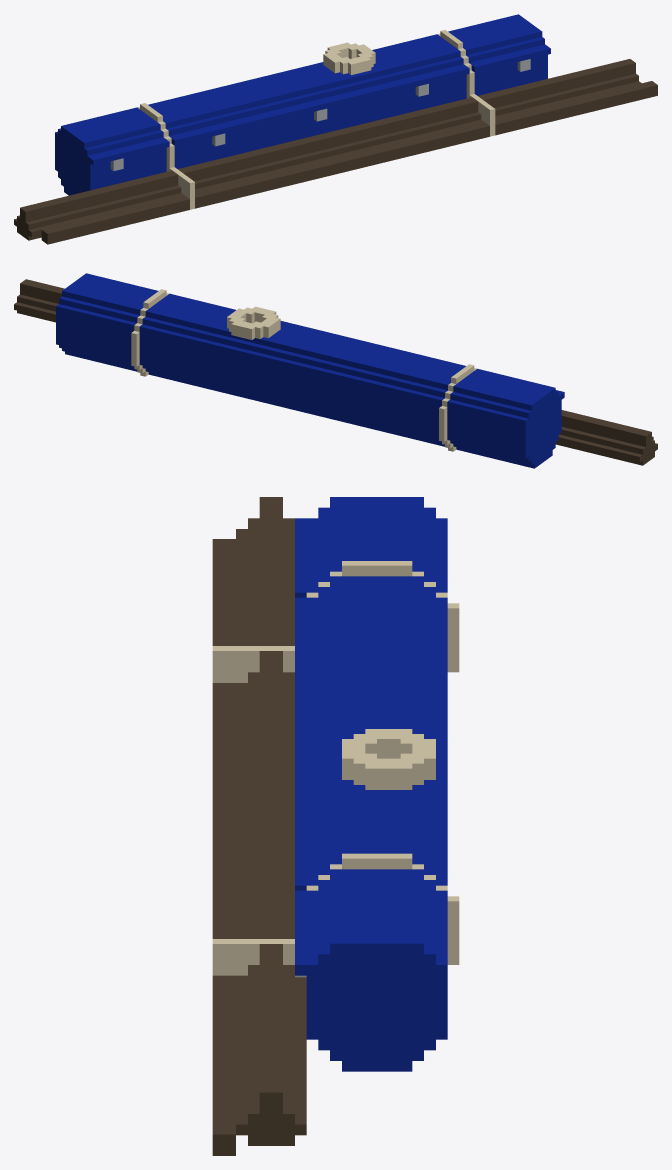
Rendered from tarp_raincatcher.glb.
The picture shows the model from 3 angles, top to bottom: view 1: azimuth 30°, elevation 25°; view 2: azimuth 150°, elevation 25°; view 3: azimuth 270°, elevation 25°; orthographic projection. The views are drawn at different scales.
Visible parts, largest first — view 1: tarp_raincatcher:compound; view 2: tarp_raincatcher:compound; view 3: tarp_raincatcher:compound.
Boxes of the visible parts, x1=… form: tarp_raincatcher:compound: x1=14, y1=14, x2=657, y2=244; tarp_raincatcher:compound: x1=14, y1=273, x2=657, y2=468; tarp_raincatcher:compound: x1=212, y1=497, x2=459, y2=1155.
Bounding box in the file's own units: 1.22 × 0.14 × 0.21.
